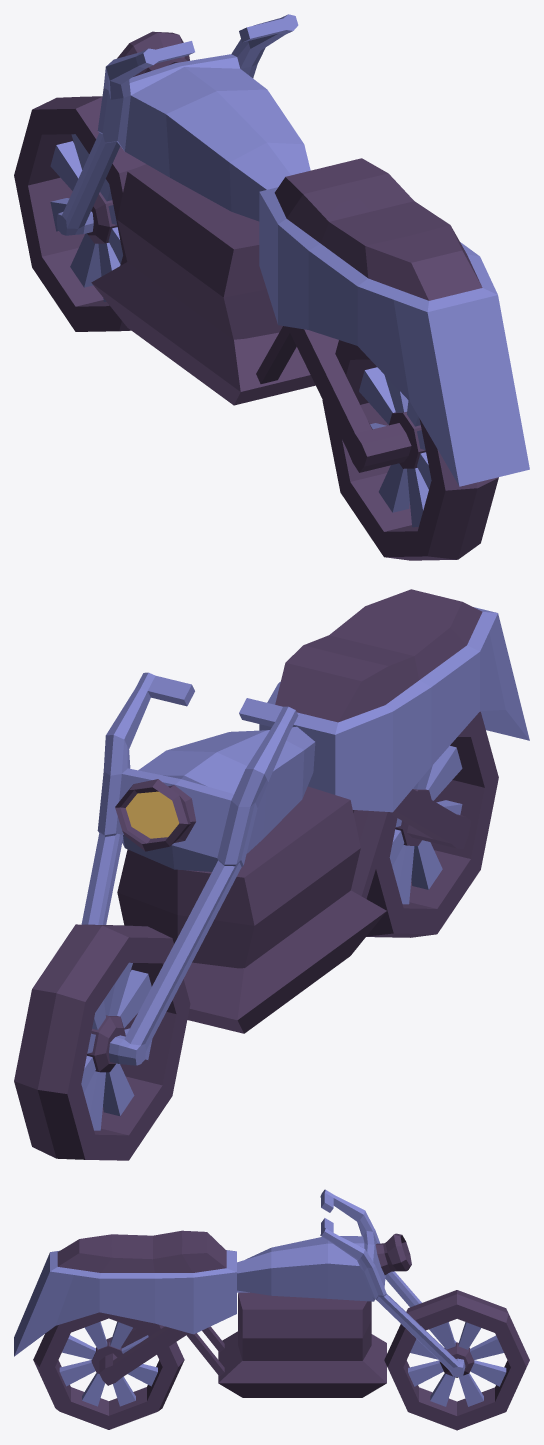
File: prop_motor.fbx
The picture shows the model from 3 angles, top to bottom: view 1: azimuth 30°, elevation 25°; view 2: azimuth 150°, elevation 25°; view 3: azimuth 270°, elevation 25°; orthographic projection. The views are drawn at different scales.
Parts seen in each view (by area): view 1: prop_motor; view 2: prop_motor; view 3: prop_motor.
Boxes of the visible parts, x1=… form: prop_motor: x1=14, y1=14, x2=529, y2=560; prop_motor: x1=14, y1=589, x2=529, y2=1160; prop_motor: x1=14, y1=1189, x2=529, y2=1430.
Bounding box in the file's own units: 0.3805 × 0.8917 × 1.9.
1 material, 1 textured.
